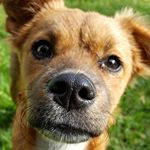puppy: (9, 5, 144, 150)
